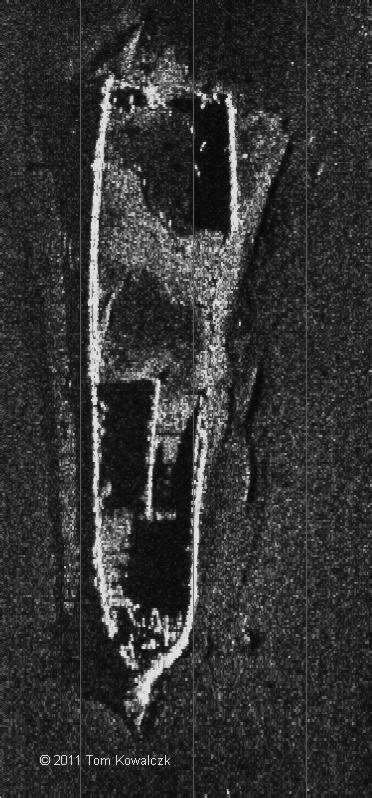ship: (82, 73, 246, 722)
